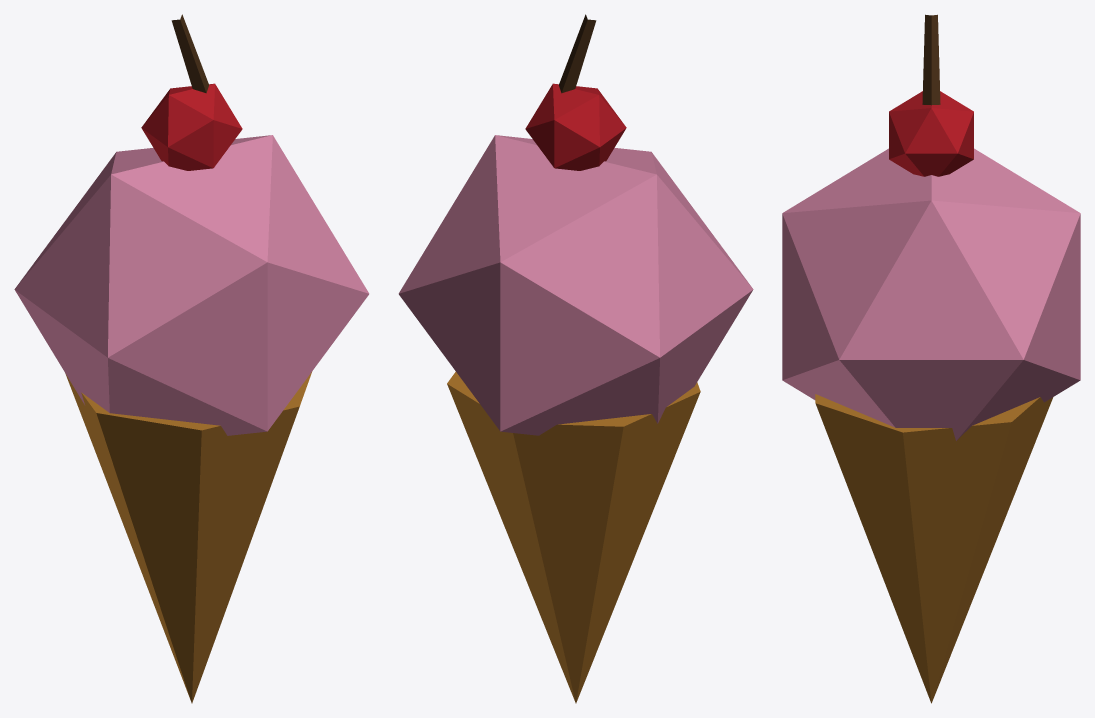
File: ice-cream-cone-9d3d4b.glb
3 views of the same model, side by side, from view 1: azimuth 30°, elevation 25°; view 2: azimuth 150°, elevation 25°; view 3: azimuth 270°, elevation 25° (orthographic).
Size of the model in its own units: 0.0834 by 0.2107 by 0.0834.
